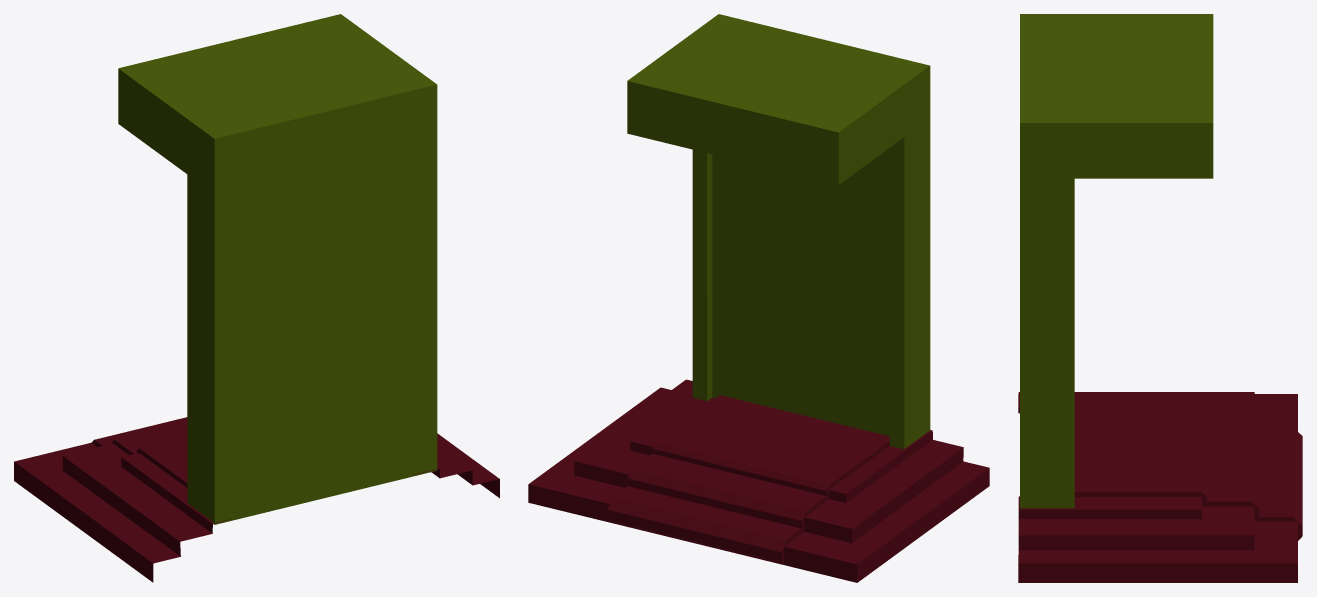
File: Chair Canopy.fbx
The picture shows the model from 3 angles, left to right: view 1: azimuth 30°, elevation 25°; view 2: azimuth 150°, elevation 25°; view 3: azimuth 270°, elevation 25°; orthographic projection. The views are drawn at different scales.
Visible parts, largest first — view 1: ChairCanopy; view 2: ChairCanopy; view 3: ChairCanopy.
Part boxes in pixels (x1,y1,x2,y2): ChairCanopy: (14, 14, 499, 582); ChairCanopy: (528, 14, 989, 582); ChairCanopy: (1018, 14, 1302, 582).
Bounding box in the file's own units: 518 × 613 × 367.
